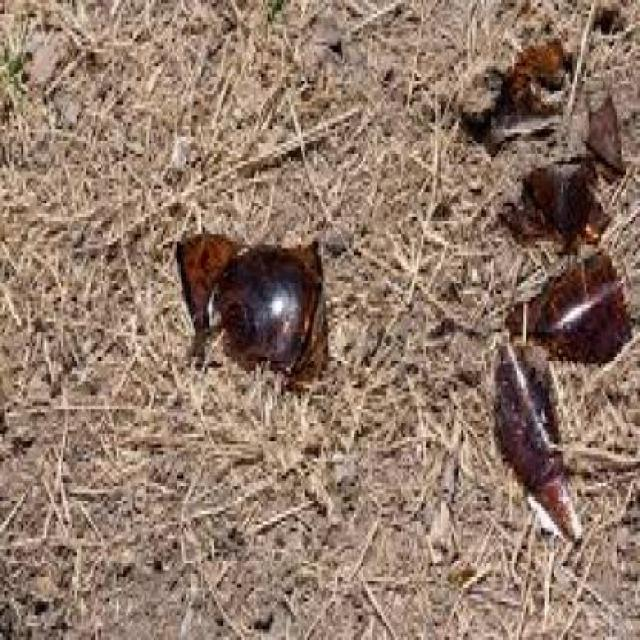kaca: (172, 228, 328, 377), (491, 332, 580, 550), (504, 245, 630, 360), (454, 38, 577, 154), (498, 153, 608, 244), (585, 94, 623, 175), (592, 6, 630, 49)
